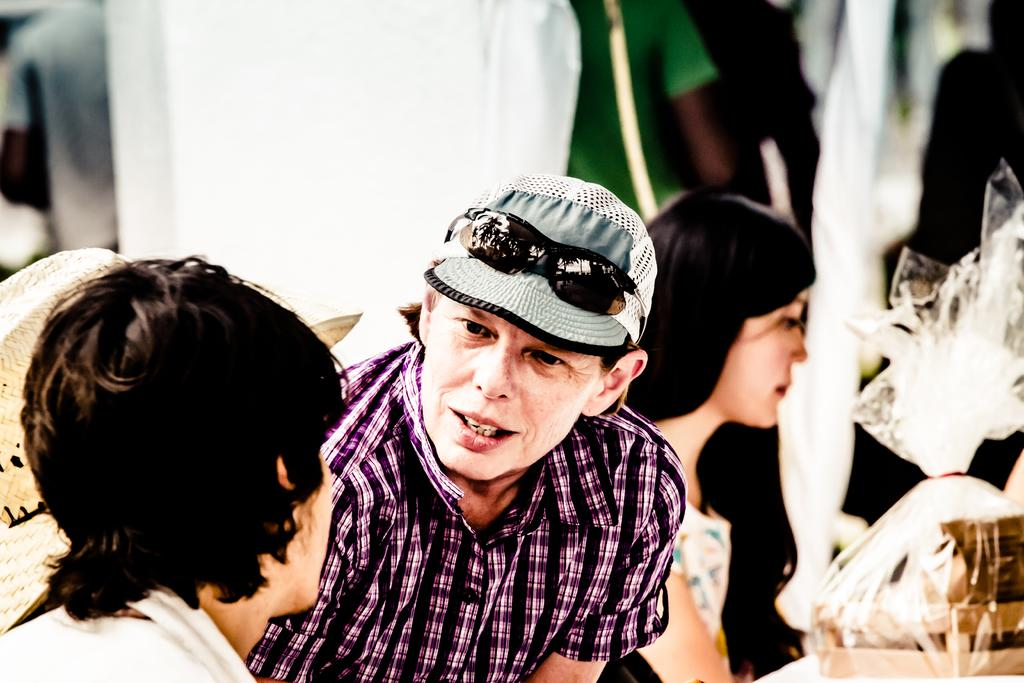Hat: (0, 244, 136, 630), (424, 169, 660, 355)
